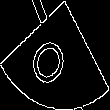O_NE: (31, 22, 79, 88)
